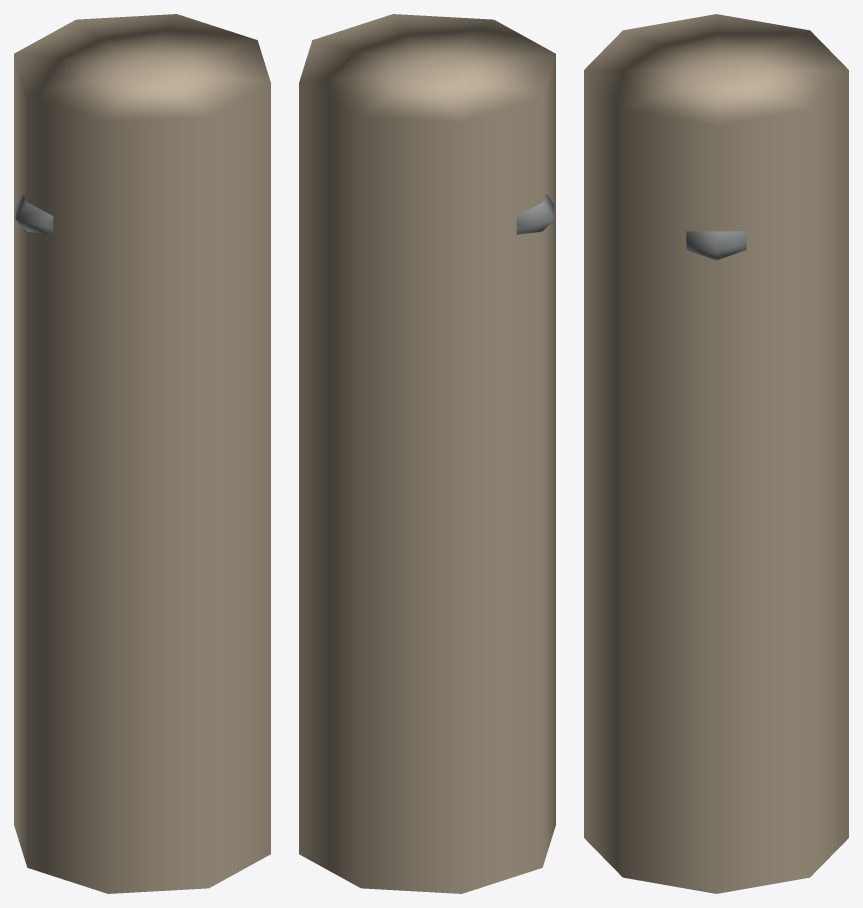
The model's file is snagPost.glb.
3 renders of one model, left to right at view 1: azimuth 30°, elevation 25°; view 2: azimuth 150°, elevation 25°; view 3: azimuth 270°, elevation 25°, orthographic.
Parts seen in each view (by area): view 1: post, ring; view 2: post, ring; view 3: post, ring.
Part boxes in pixels (x1,y1,x2,y2): post: [14, 14, 270, 893]; ring: [15, 194, 53, 234]; post: [299, 14, 555, 893]; ring: [516, 194, 554, 234]; post: [584, 14, 848, 893]; ring: [686, 231, 746, 260].
Bounding box in the file's own units: 0.55 × 1.6 × 0.5.
